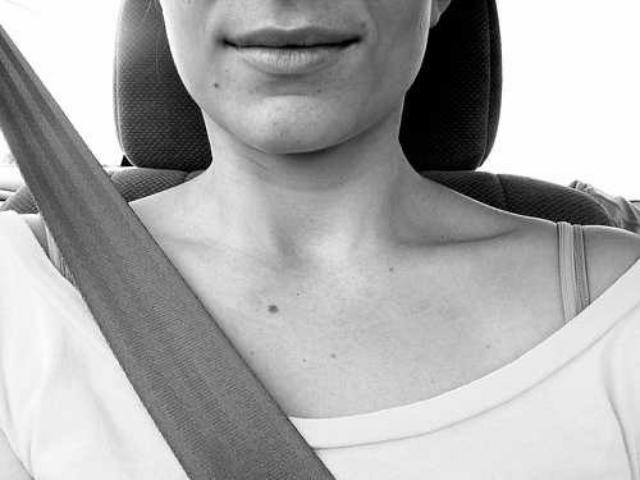Seatbelt: (0, 14, 348, 480)
